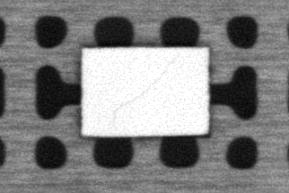DIE_CRACK: (114, 55, 178, 108)
